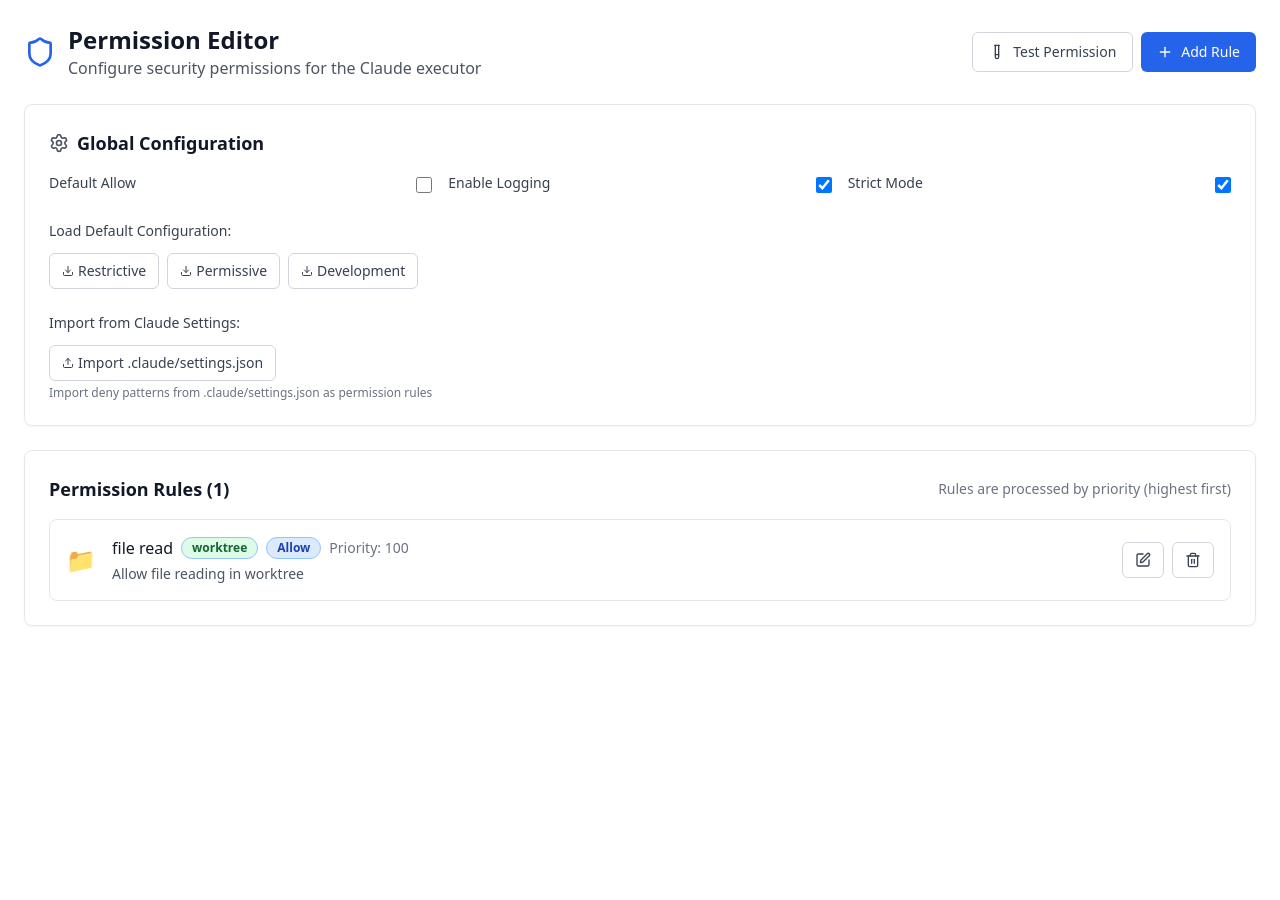
Test: PermissionEditor › opens test form when test permission is clicked
What coordinates should you click on to do the following:
click the button "Test Permission"
I would click on:
 (1053, 52)
Its box is x1=972 y1=32 x2=1133 y2=72.
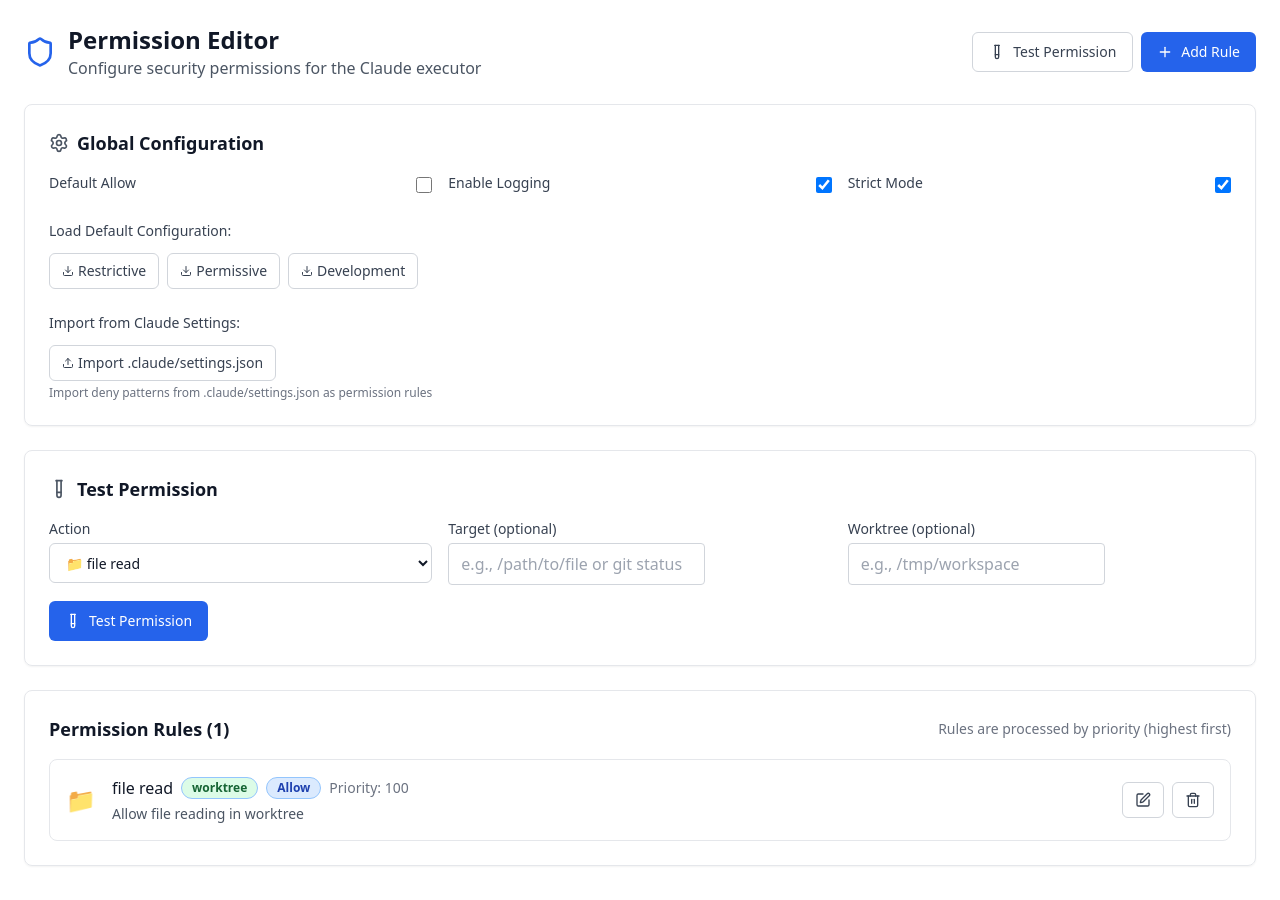
Expected: the dropdown labelled "Action" is shown, x1=49 y1=543 x2=432 y2=583
